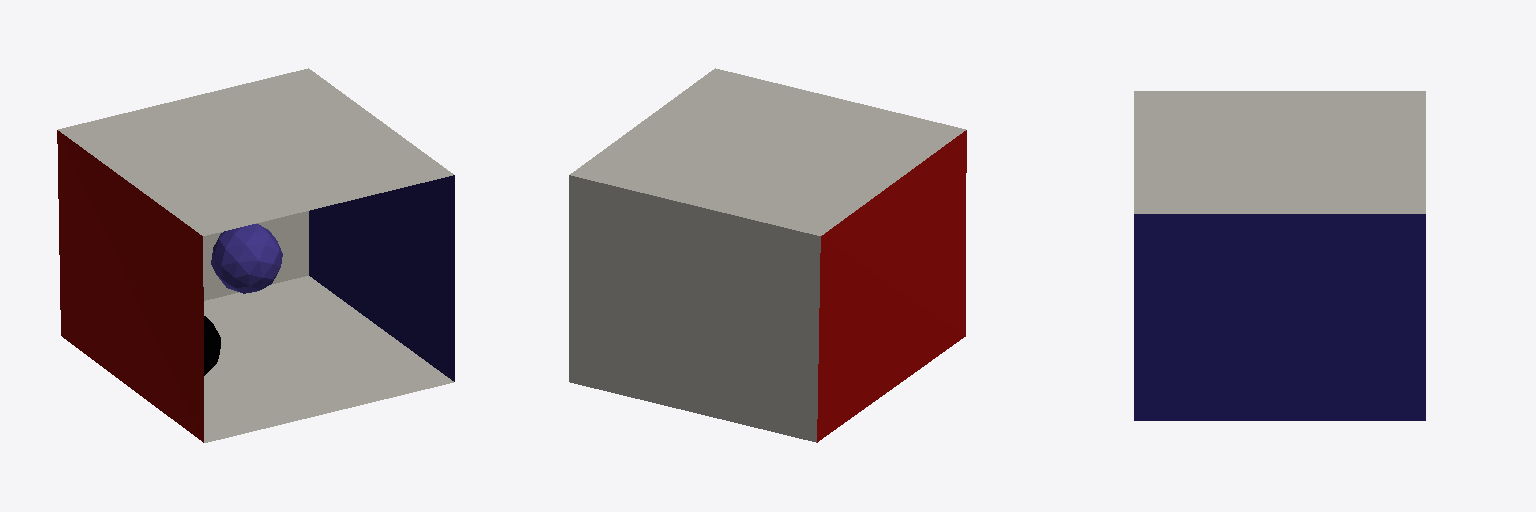
The model's file is CornellBox-Sphere-1112.obj.
3 renders of one model, left to right at view 1: azimuth 30°, elevation 25°; view 2: azimuth 150°, elevation 25°; view 3: azimuth 270°, elevation 25°, orthographic.
Parts seen in each view (by area): view 1: ceiling, leftWall, floor, rightWall, leftSphere, backWall, rightSphere; view 2: backWall, ceiling, leftWall; view 3: rightWall, ceiling.
Part boxes in pixels (x1,y1,x2,y2): ceiling: (58, 68, 453, 235); leftWall: (57, 130, 203, 442); floor: (204, 276, 453, 442); rightWall: (309, 175, 454, 381); leftSphere: (211, 224, 282, 293); backWall: (203, 211, 308, 300); rightSphere: (204, 316, 220, 375); backWall: (569, 175, 820, 442); ceiling: (570, 68, 965, 235); leftWall: (817, 130, 966, 442); rightWall: (1134, 214, 1425, 420); ceiling: (1134, 91, 1425, 213).
Size of the model in its own units: 2.02 by 1.59 by 2.03.